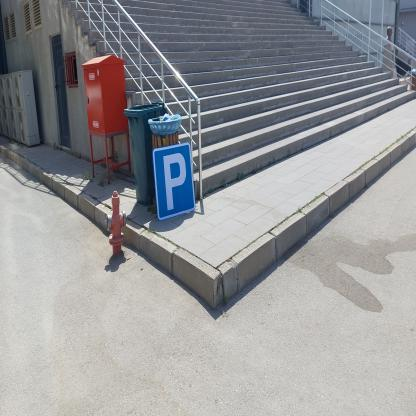Parking-Sign: (153, 141, 197, 223)
